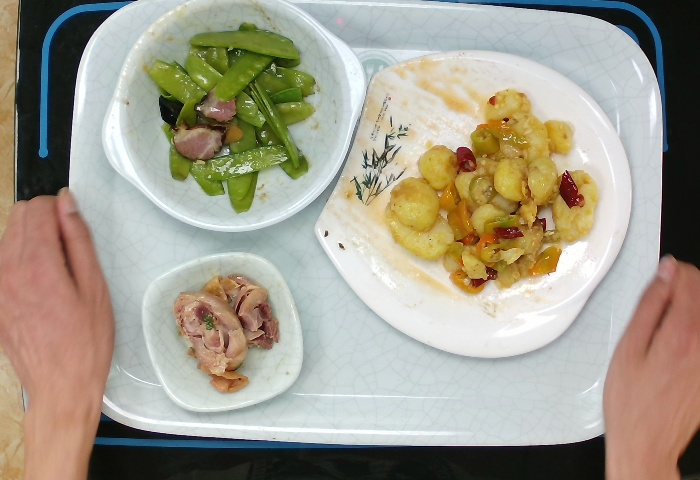JYsf-Mian_Pan: (312, 47, 634, 360)
JYsf-Shuang_Er_Wan: (99, 1, 368, 234)
JYsf-Si_Fang_Die: (140, 249, 305, 414)
